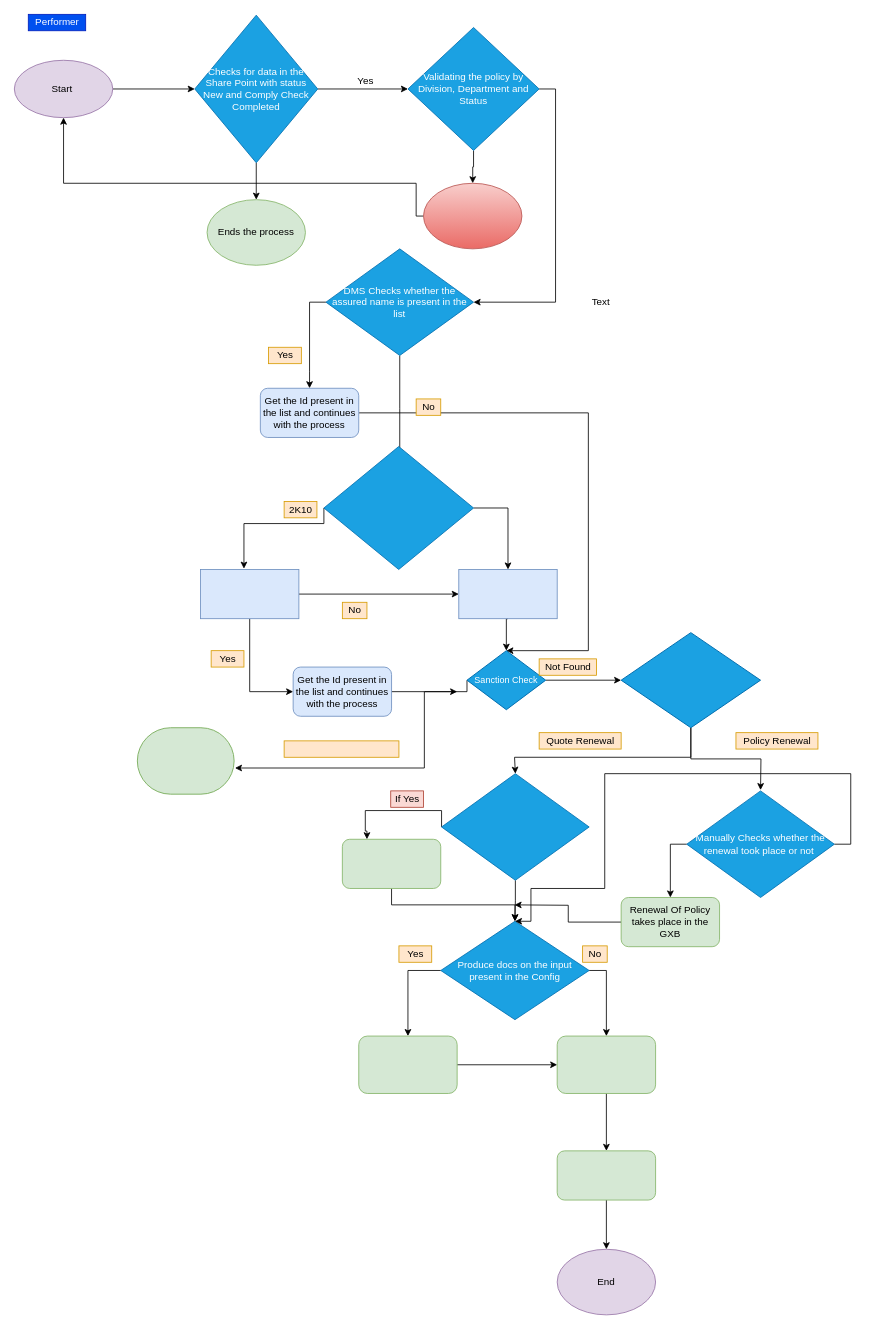
This 872x1329 diagram has some shape labels left out. The centre of each missing label's shape, as x and y in pixels:
"Checks whether the assured is present in another list" belongs at (249,594).
"Creates an entry in the DMS List" belongs at (507,594).
"Depending upon the list it is present in SP 2K10 OR online" belongs at (398,507).
"Executes a query to check whether renewal took place or not" belongs at (515,826).
"Potential Match Found" belongs at (341,748).
"Produce Docs Takes Place" belongs at (407,1064).
"Quote or Policy Renewal depending upon the input provided in the Share Point" belongs at (690,680).
"Renewal Of Quote takes place in the GXB" belongs at (391,863).
"Send a mail stating that having a potential match and terminates that record." belongs at (185,760).
"Sends Business Exception Mail and goes to other record" belongs at (472,215).
"Uploads the sanction file in the GXB" belongs at (606,1064).
"Uploads the sanction file in the Share Point" belongs at (606,1175).
